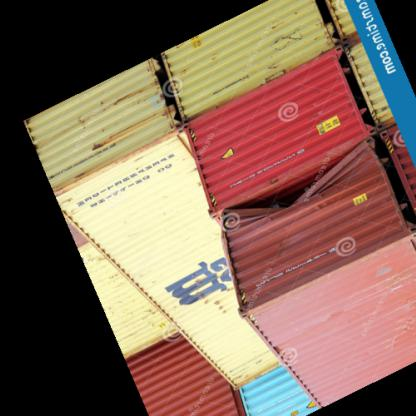Damage: (224, 160, 326, 219)
